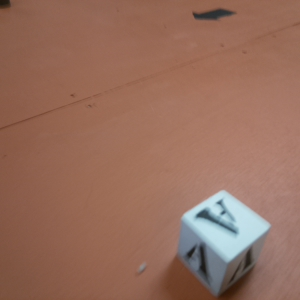blockA: (172, 190, 264, 289)
start: (188, 6, 236, 26)
